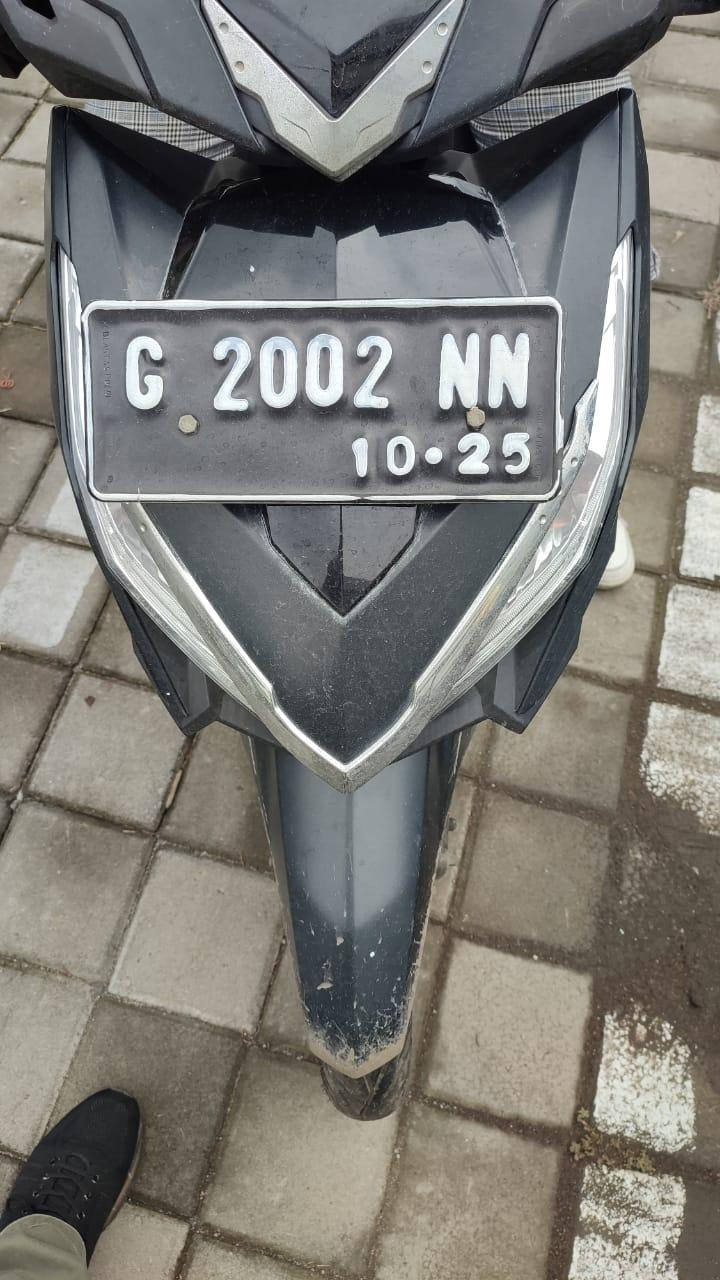clone-license-plate: (76, 300, 560, 499)
